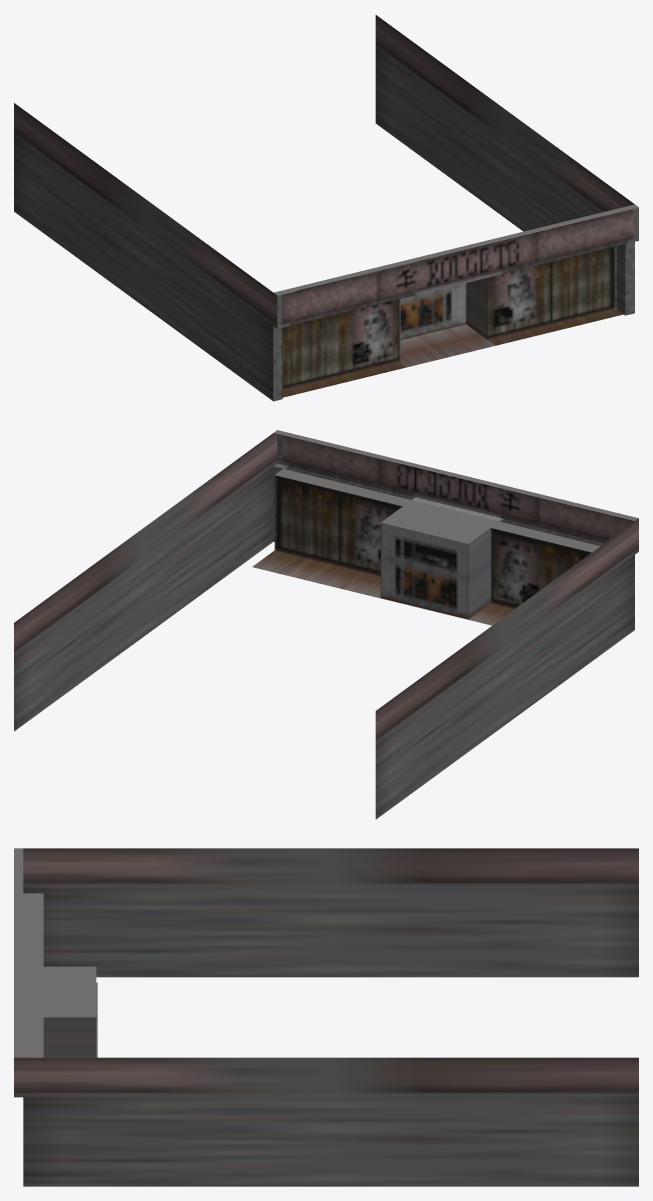
File: w20_bldg1f_l.fbx
3 views of the same model, one above another, from view 1: azimuth 30°, elevation 25°; view 2: azimuth 150°, elevation 25°; view 3: azimuth 270°, elevation 25° (orthographic). The views are drawn at different scales.
Visible parts, largest first — view 1: w20_bldg1f_L; view 2: w20_bldg1f_L; view 3: w20_bldg1f_L.
Boxes of the visible parts, x1,y1,x2,y2 form: w20_bldg1f_L: (14, 15, 638, 401); w20_bldg1f_L: (14, 430, 638, 819); w20_bldg1f_L: (14, 848, 638, 1186).
Size of the model in its own units: 2100 by 604 by 2650.
